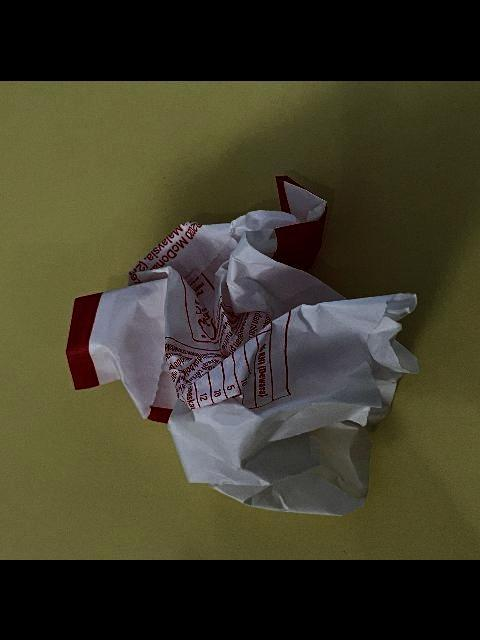paperbag: (63, 173, 422, 519)
